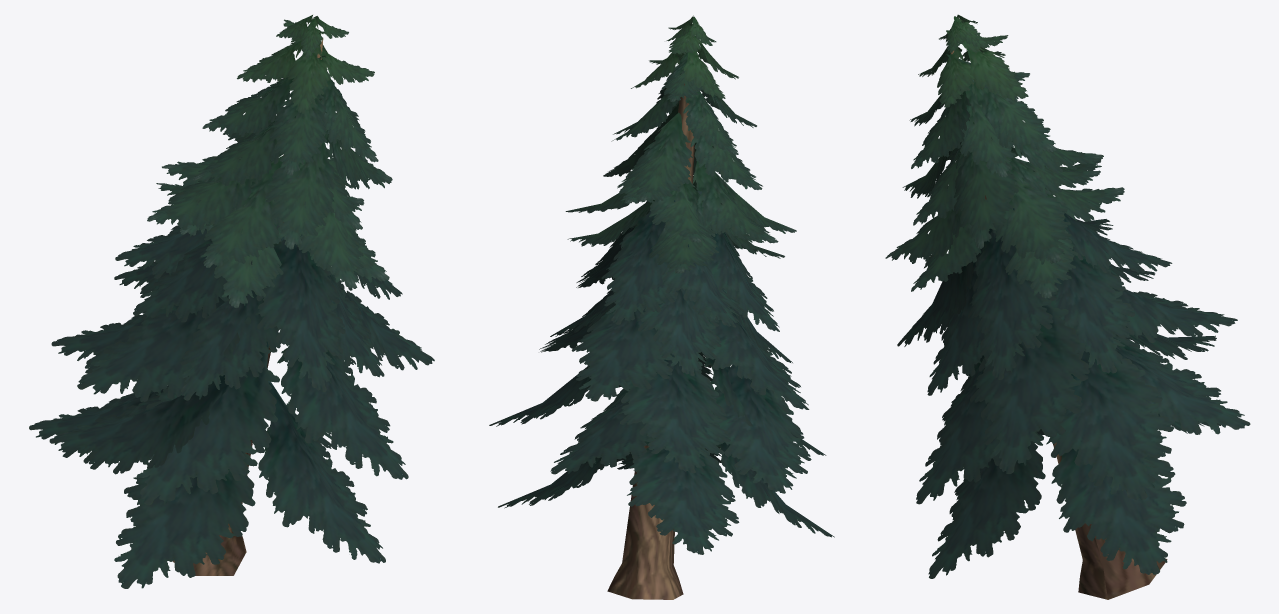
File: Tree_A_1.fbx
3 views of the same model, side by side, from view 1: azimuth 30°, elevation 25°; view 2: azimuth 150°, elevation 25°; view 3: azimuth 270°, elevation 25° (orthographic). The views are drawn at different scales.
Parts seen in each view (by area): view 1: Tree_A_1_Clone_, Tree_A_Trunk; view 2: Tree_A_1_Clone_, Tree_A_Trunk; view 3: Tree_A_1_Clone_, Tree_A_Trunk.
Part boxes in pixels (x1,y1,x2,y2): Tree_A_1_Clone_: (29,15,434,588); Tree_A_Trunk: (172,38,323,575); Tree_A_1_Clone_: (489,15,834,554); Tree_A_Trunk: (607,83,694,599); Tree_A_1_Clone_: (885,14,1250,578); Tree_A_Trunk: (951,50,1167,599).
Size of the model in its own units: 0.9418 by 1.53 by 0.918.
Materials: 2 (2 with a texture image).
